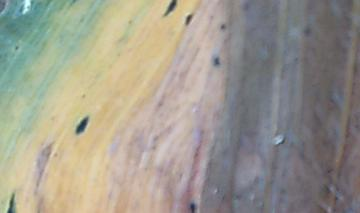tarspot: (76, 116, 89, 134), (164, 1, 177, 18), (7, 193, 17, 212), (302, 25, 313, 37), (188, 200, 197, 213), (184, 14, 193, 26), (212, 55, 220, 67), (220, 23, 227, 32), (13, 44, 20, 53)
